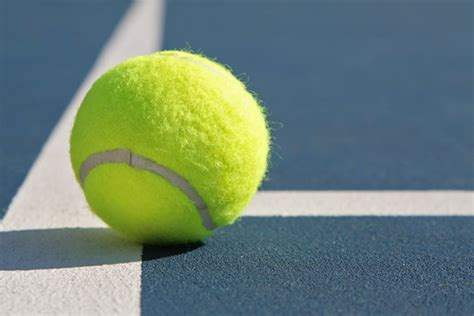tennis_ball: (68, 49, 272, 245)
